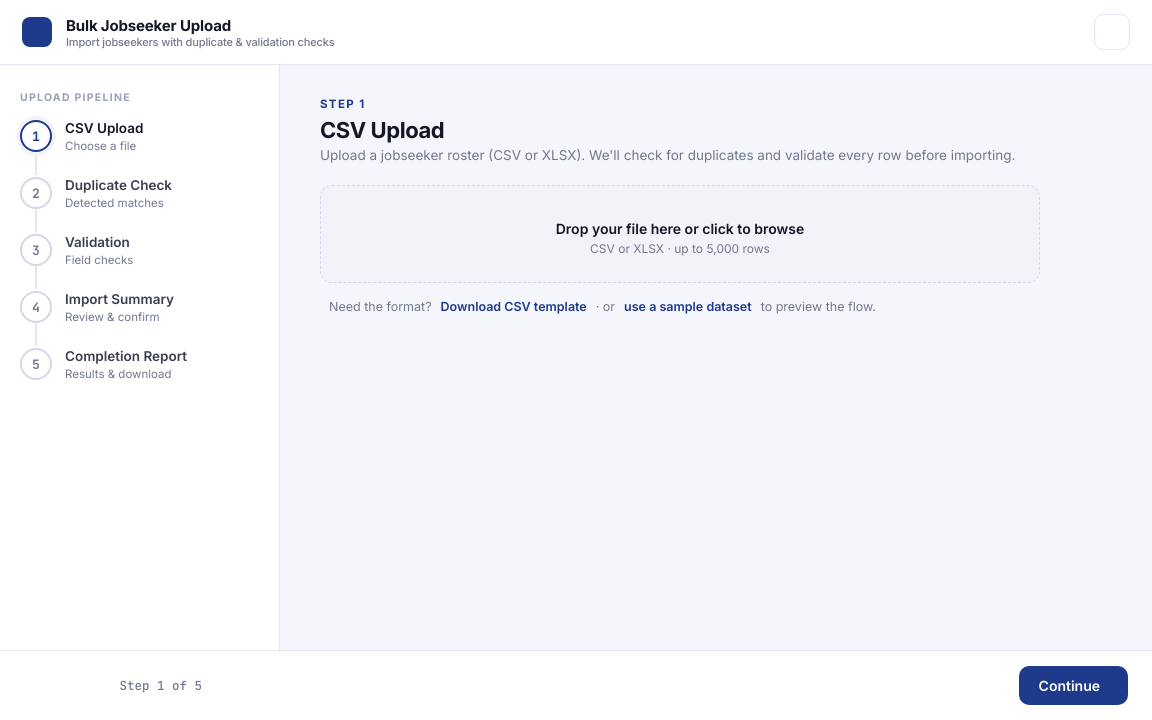
it: UploadWizard › walks the sample dataset through duplicates, validation and summary to a completed import
The image size is (1152, 720).
# Step 1 (CSV Upload): the sample-dataset link sets rows without needing a real File.
What coordinates should you click on to do the following:
click the link "use a sample dataset"
I would click on:
 (688, 306)
Its box is [624, 299, 752, 314].
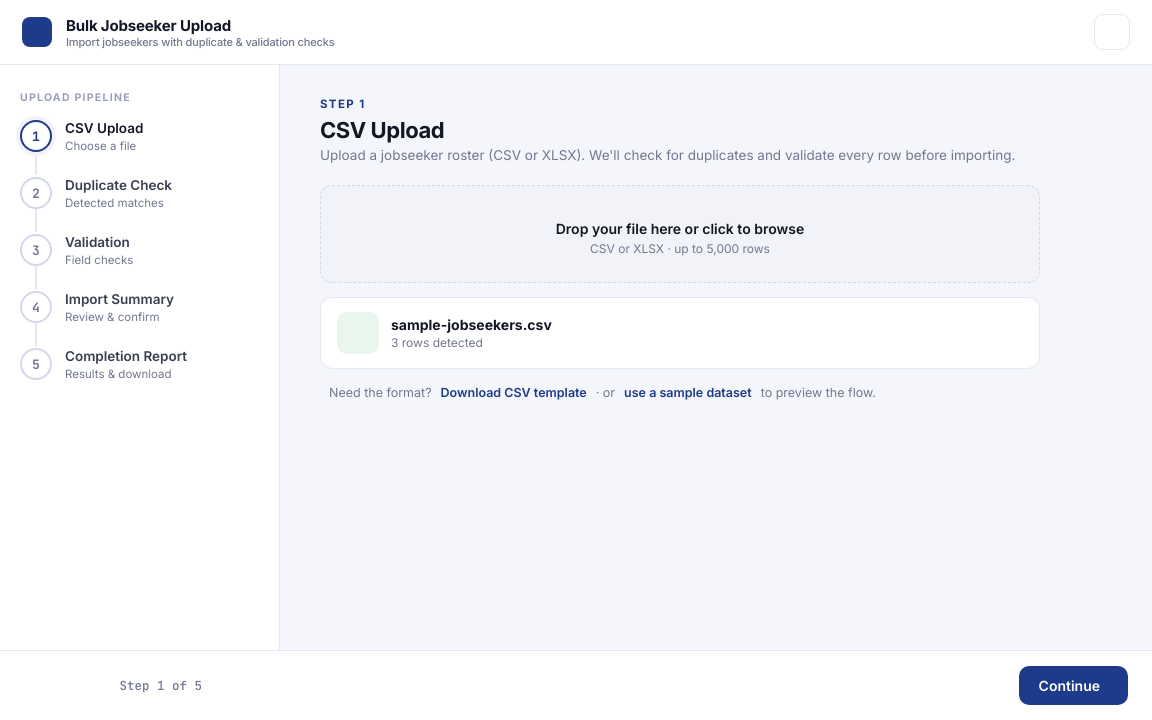
What coordinates should you click on to do the following:
click the button "Continue"
I would click on:
 (1073, 686)
Its box is [1019, 666, 1128, 705].
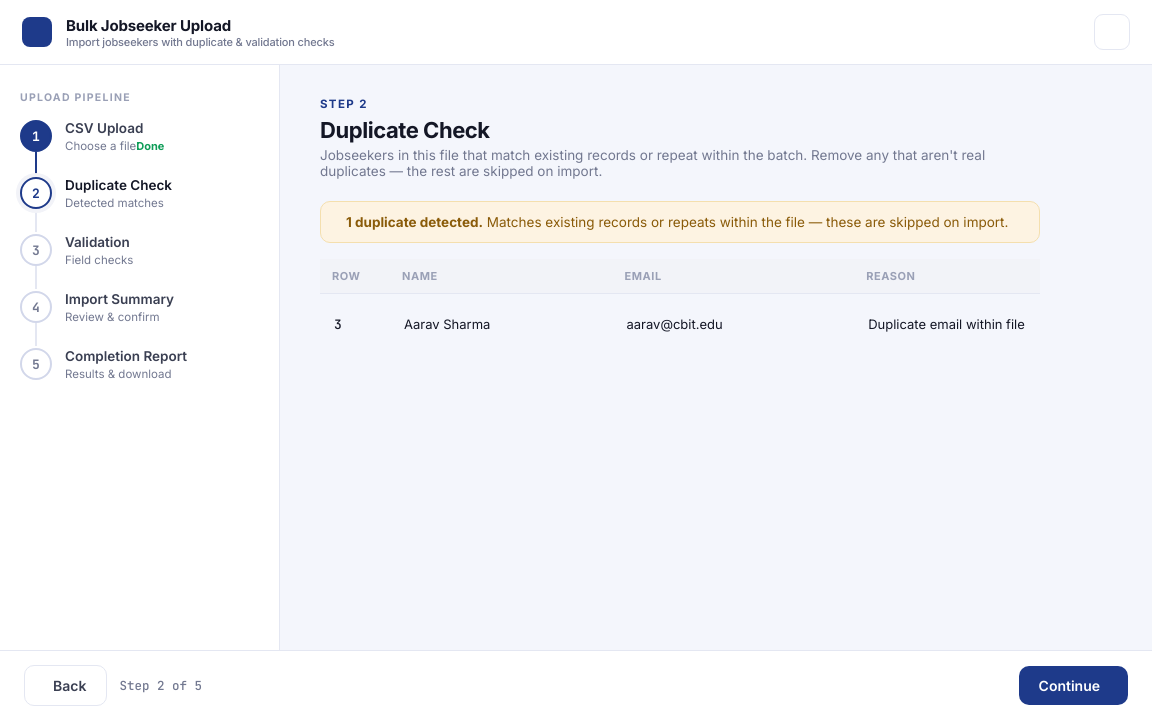
Expected: the heading "Duplicate Check" is shown, [320, 117, 490, 143]
Expected: the text "Duplicate email within file" is shown, [868, 316, 1025, 332]
What coordinates should you click on to do the following:
click the button "Continue"
I would click on:
 (1073, 686)
Its box is [1019, 666, 1128, 705].
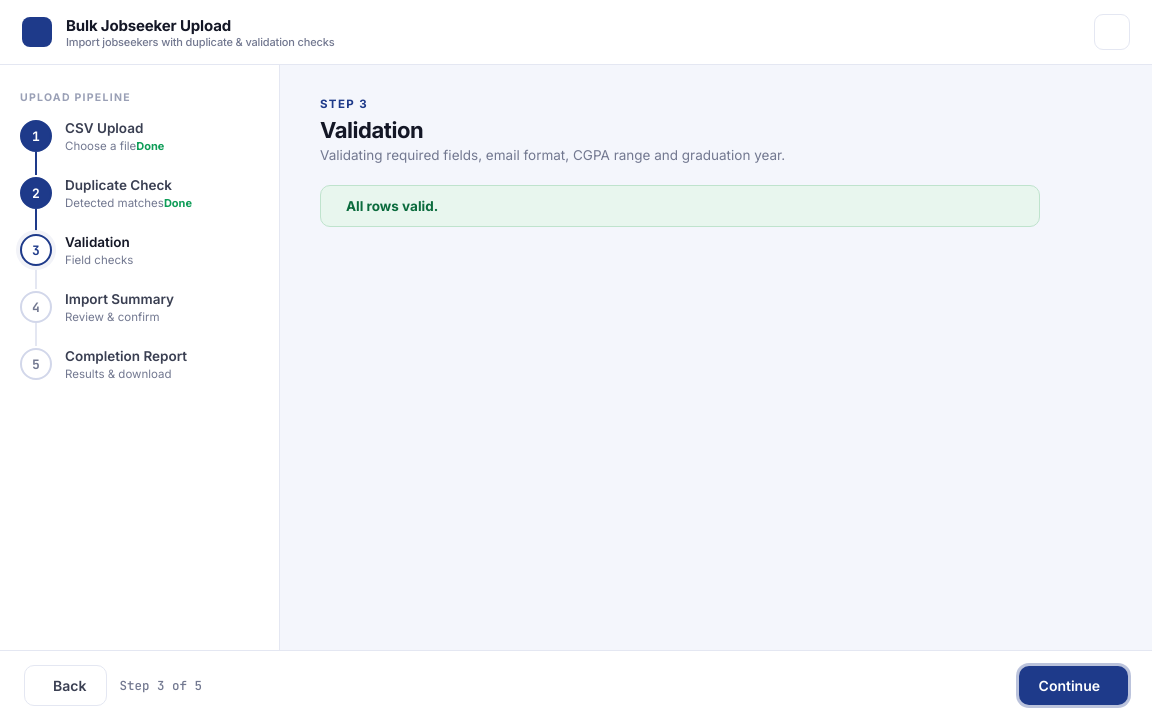
Expected: the heading "Validation" is shown, [320, 117, 423, 143]
Expected: the text "All rows valid." is shown, [346, 198, 438, 214]
What coordinates should you click on to do the following:
click the button "Continue"
I would click on:
 (1073, 686)
Its box is [1019, 666, 1128, 705].
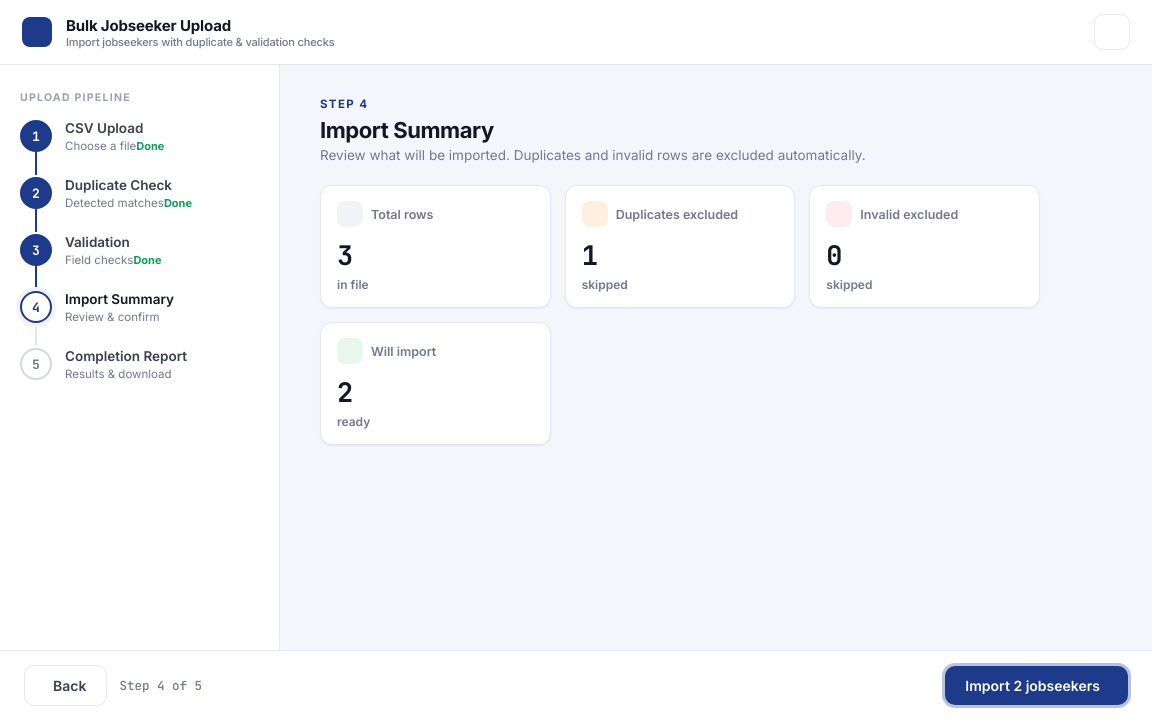
Expected: the heading "Import Summary" is shown, [320, 117, 494, 143]
Expected: the text "2" below "Will import" is shown, [337, 374, 352, 410]
What coordinates should you click on to do the following:
click the button "Import 2 jobseekers"
I would click on:
 (1037, 686)
Its box is [945, 666, 1128, 705].
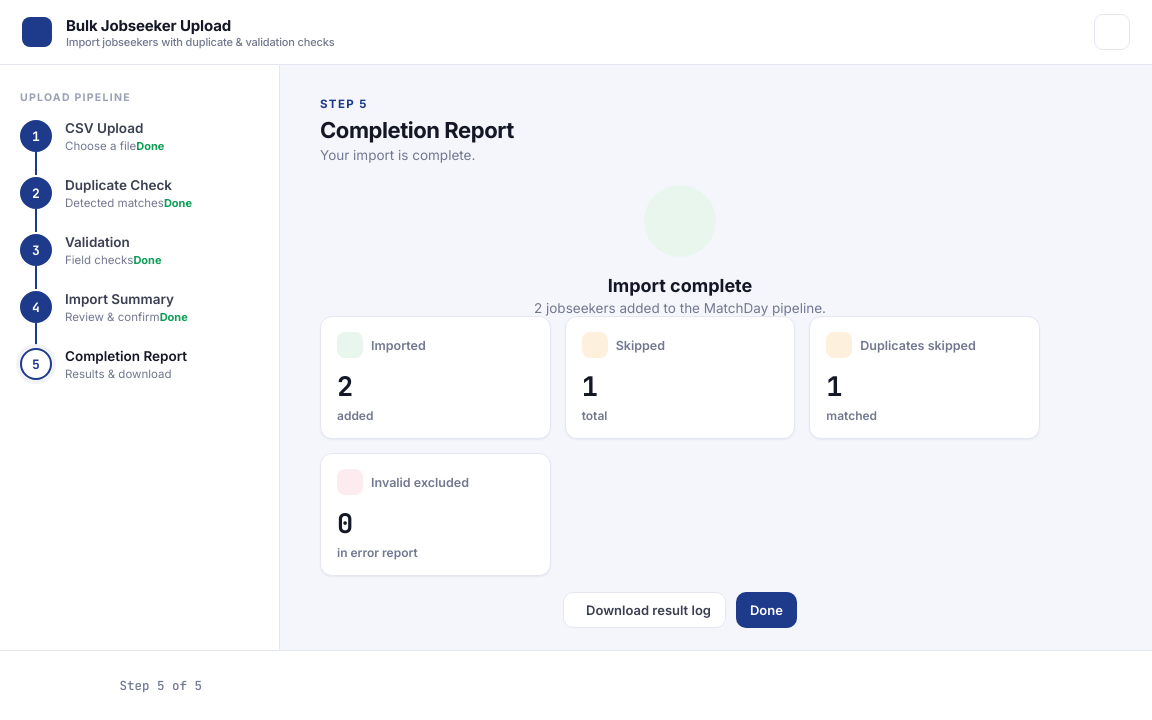
Expected: the heading "Completion Report" is shown, [320, 117, 514, 143]
Expected: the text "2" below "Imported" is shown, [337, 368, 352, 404]
